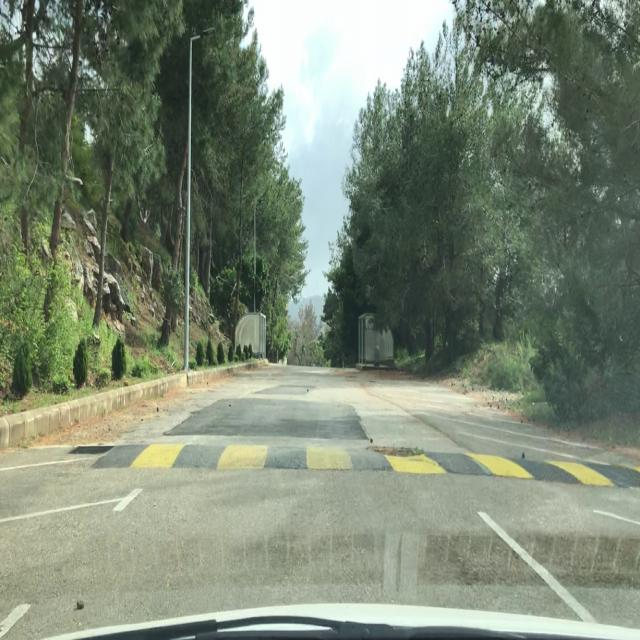Pothole: (365, 443, 428, 458)
